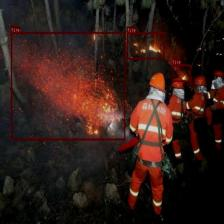fire: (11, 32, 125, 140), (127, 32, 164, 59), (172, 64, 191, 82)
